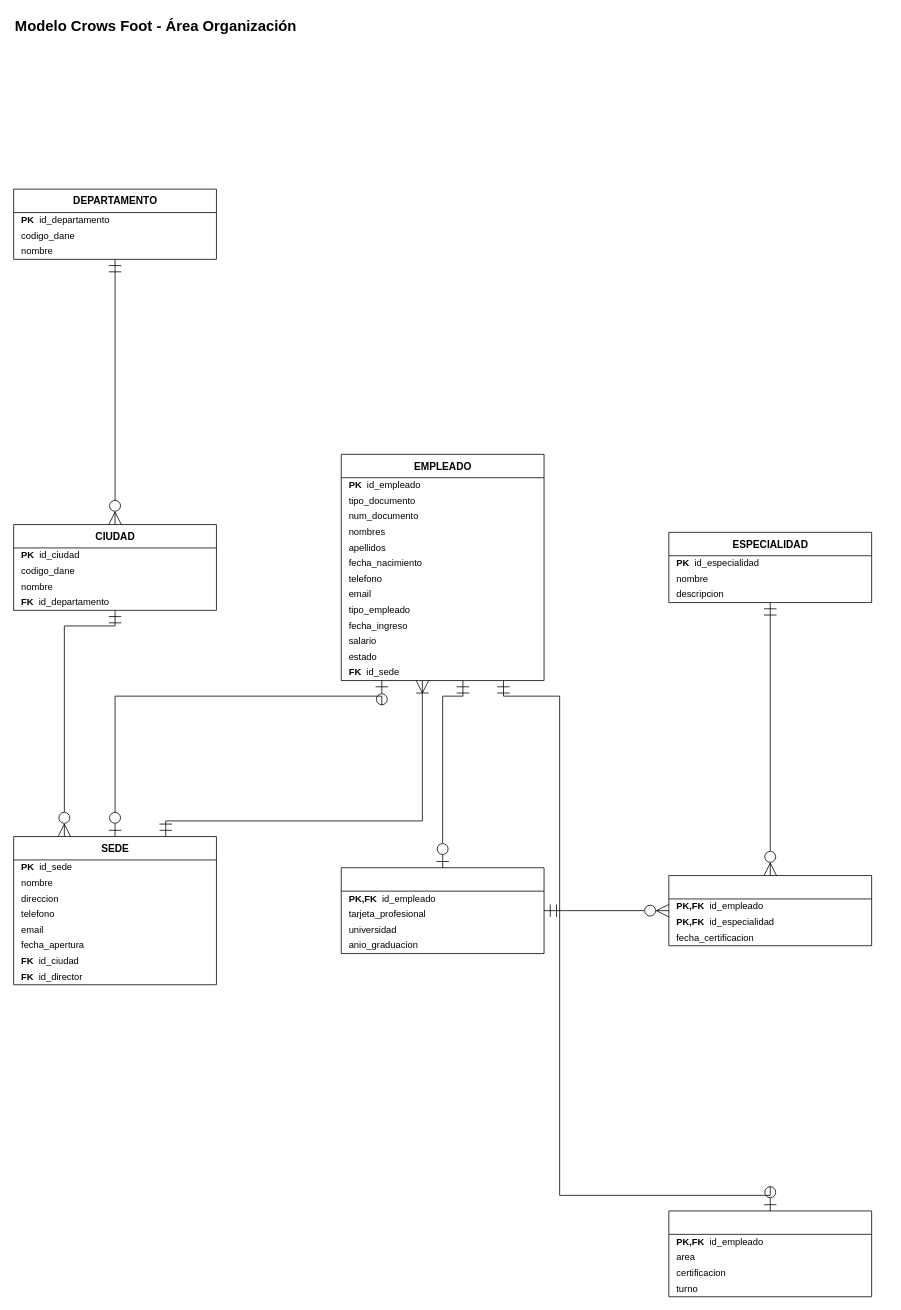
The diagram is 901 pixels wide and 1310 high, and some of its shapes have lost their labels. The box of each missing label's shape, as (x1, y1, x2, y2) in pixels:
AUXILIAR: (668, 1210, 872, 1297)
VETERINARIO: (340, 867, 544, 954)
VETERINARIO_ESPECIALIDAD: (668, 875, 872, 946)
